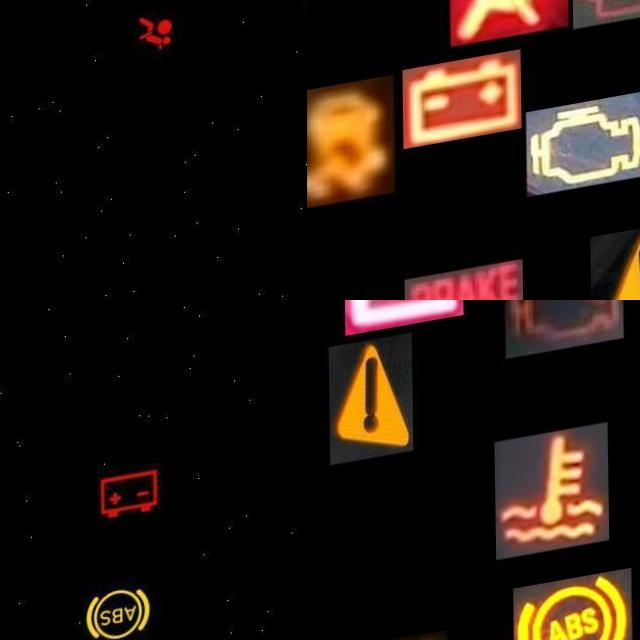Central Warning lamp: (328, 347, 413, 476), (589, 232, 640, 300)
Engine cooling system: (494, 443, 608, 577)
